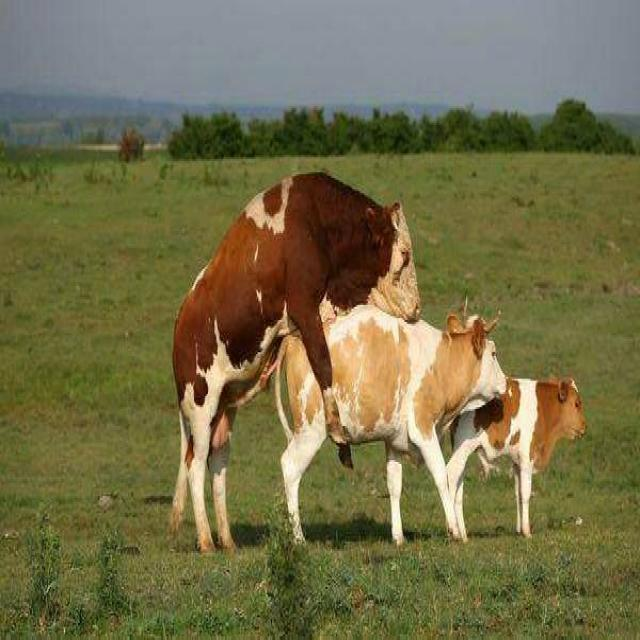cow: (172, 172, 419, 552), (326, 305, 506, 543), (448, 379, 586, 539), (275, 335, 326, 541)
